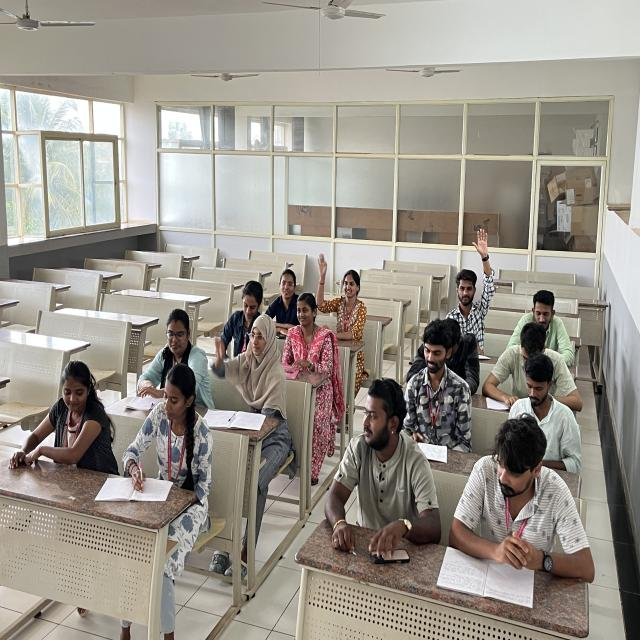Hand Rising: (452, 220, 505, 348), (317, 246, 373, 341)
Writing: (123, 364, 205, 508)
